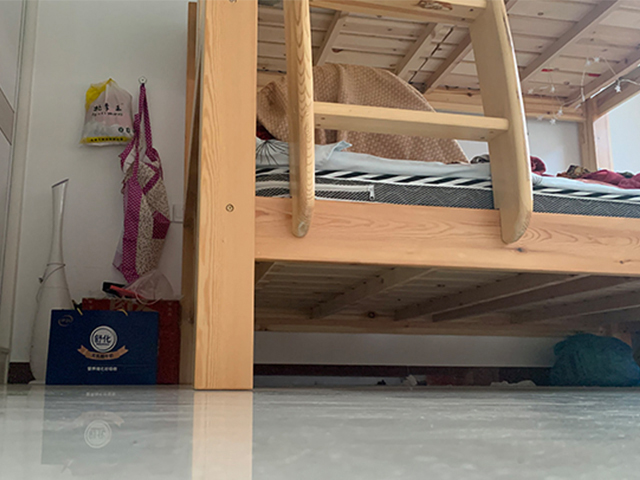bed: (178, 1, 640, 391)
